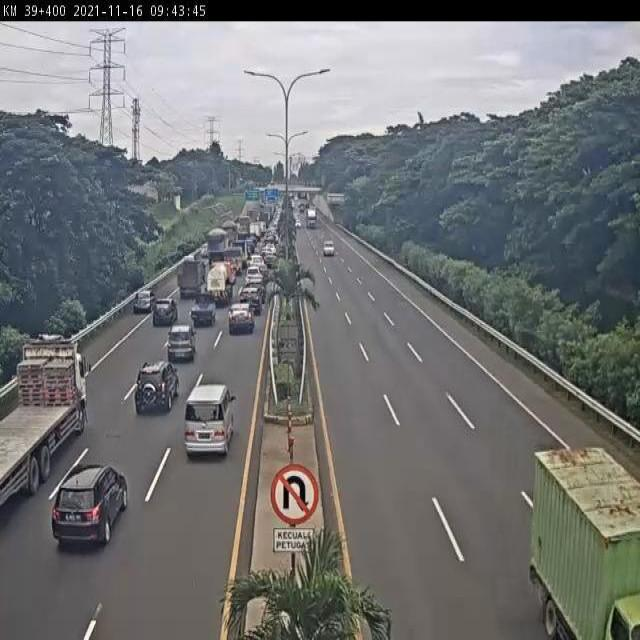car: (50, 464, 128, 547), (186, 383, 238, 457), (134, 360, 180, 415), (167, 324, 196, 363), (228, 304, 255, 340), (190, 295, 216, 329), (152, 297, 178, 327), (240, 288, 262, 315), (133, 291, 156, 313), (246, 279, 266, 300), (246, 265, 264, 284), (248, 254, 264, 266), (294, 220, 301, 229)
small truck: (529, 448, 640, 640), (178, 260, 205, 299), (223, 247, 242, 274)
truck-l-: (0, 341, 88, 503), (306, 208, 316, 227)
truck-m-: (206, 261, 234, 307), (206, 230, 228, 266)
